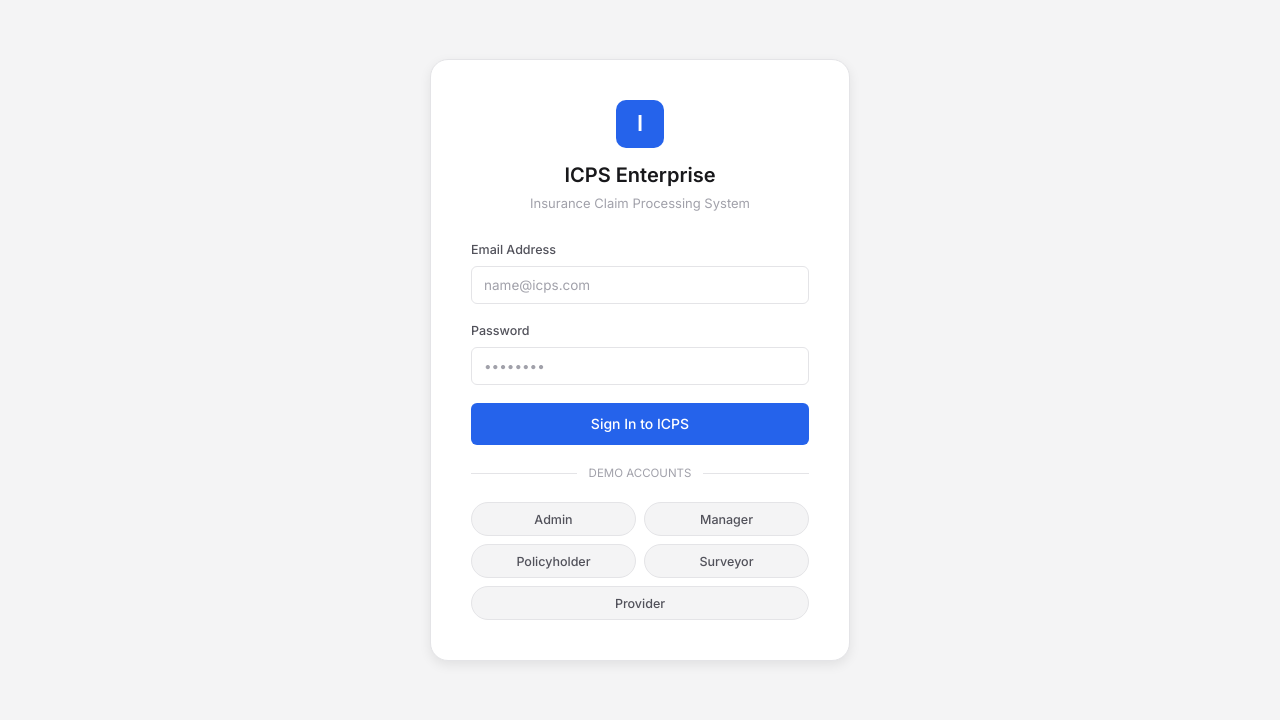
ICPS Enterprise RBAC Flows › Role: branch_manager › logs in as branch_manager via demo button
Click the button "Manager".
click(727, 519)  # box [644,502,809,536]
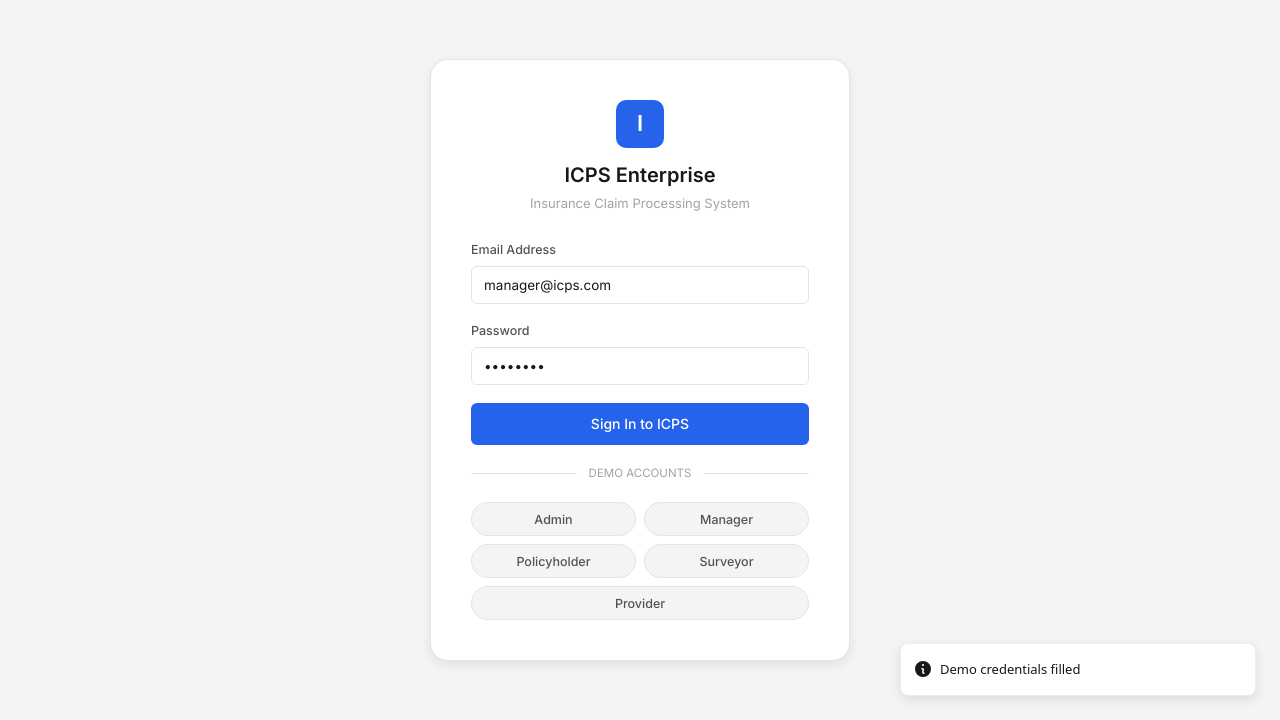
Now the password field labelled "Password" holds "password", box [471,347,809,385]
Click the button "Sign In to ICPS".
click(640, 424)  # box [471,403,809,445]
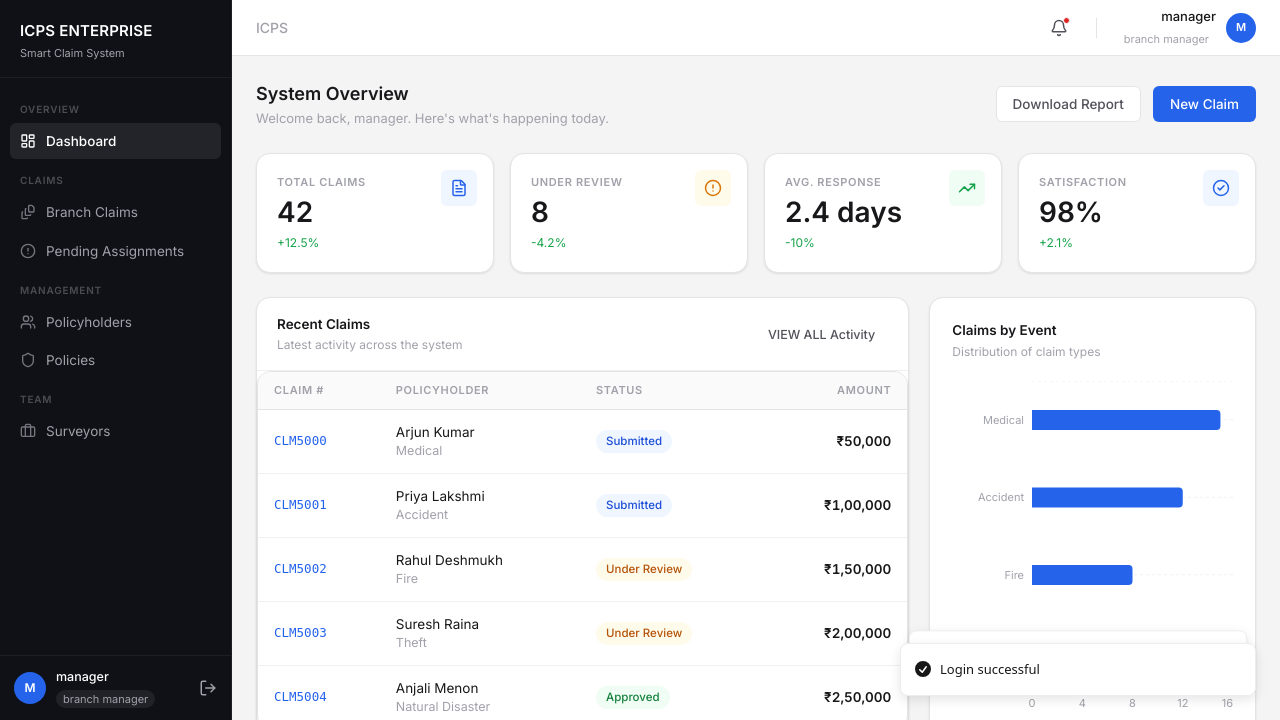
Now the heading "System Overview" is shown, box [256,83,409,104]
